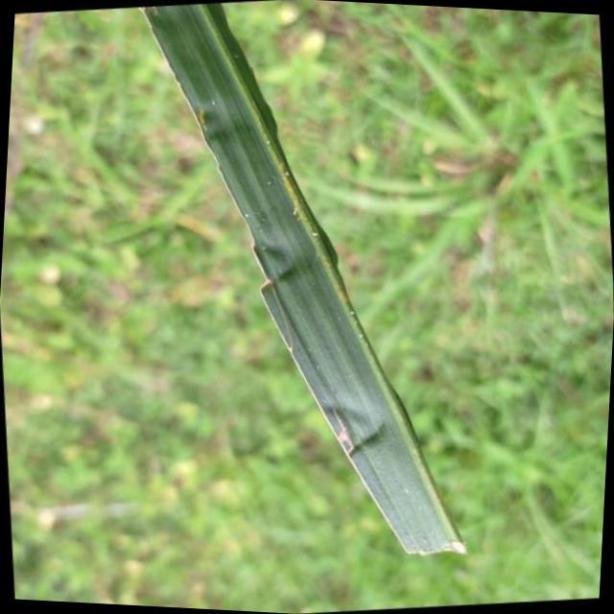Boron: (139, 0, 468, 557)
